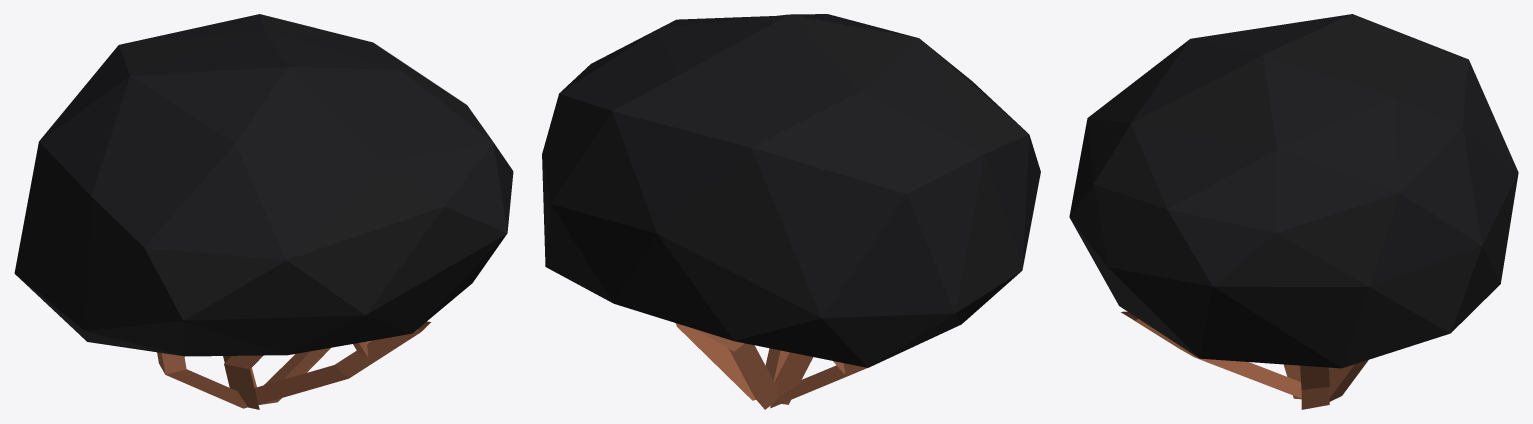
Rendered from buch_with_branches_big.fbx.
The picture shows the model from 3 angles, left to right: view 1: azimuth 30°, elevation 25°; view 2: azimuth 150°, elevation 25°; view 3: azimuth 270°, elevation 25°; orthographic projection. The views are drawn at different scales.
Parts seen in each view (by area): view 1: buch_with_branches; view 2: buch_with_branches; view 3: buch_with_branches.
Boxes of the visible parts, x1,y1,x2,y2 form: buch_with_branches: (14,14,513,409); buch_with_branches: (542,14,1040,409); buch_with_branches: (1069,14,1518,409).
Bounding box in the file's own units: 68.19 × 54.9 × 63.69.
